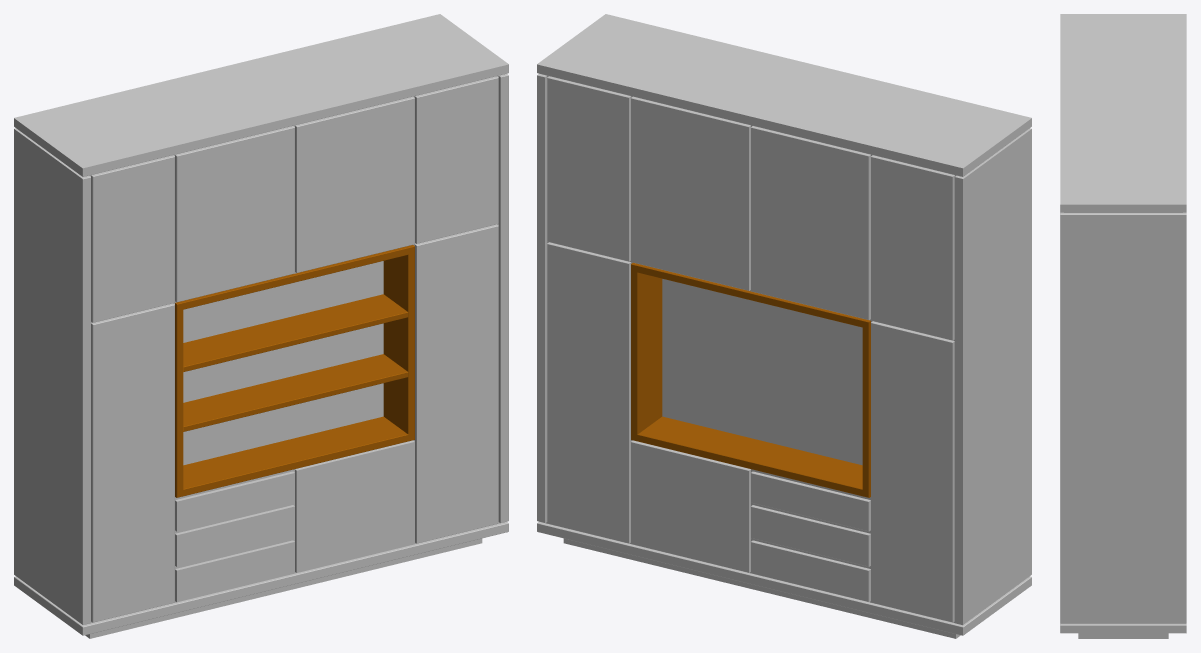
Rendered from TV_Wall.fbx.
3 renders of one model, left to right at view 1: azimuth 30°, elevation 25°; view 2: azimuth 150°, elevation 25°; view 3: azimuth 270°, elevation 25°, orthographic. The views are drawn at different scales.
Visible parts, largest first — view 1: TV_Wall; view 2: TV_Wall; view 3: TV_Wall.
Boxes of the visible parts, x1,y1,x2,y2 form: TV_Wall: (14, 14, 508, 638); TV_Wall: (537, 14, 1031, 638); TV_Wall: (1060, 14, 1186, 638).
Size of the model in its own units: 250 by 270 by 70.
